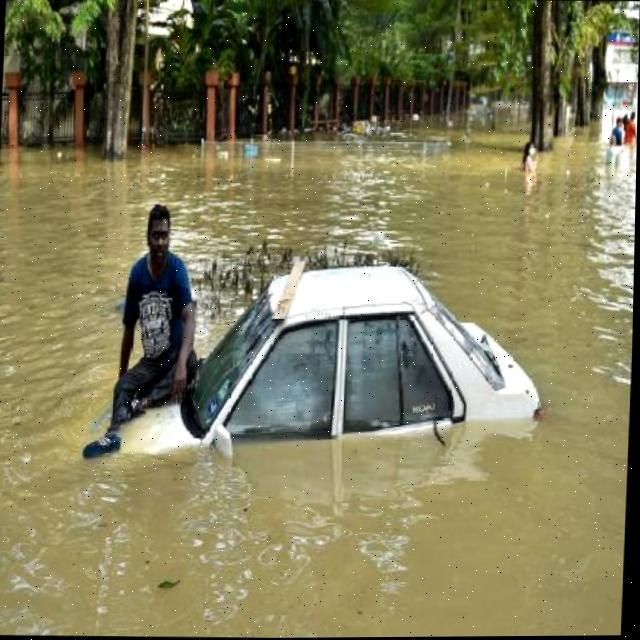civilian: (104, 198, 207, 436), (512, 133, 550, 181), (606, 113, 628, 147), (622, 107, 638, 145)
